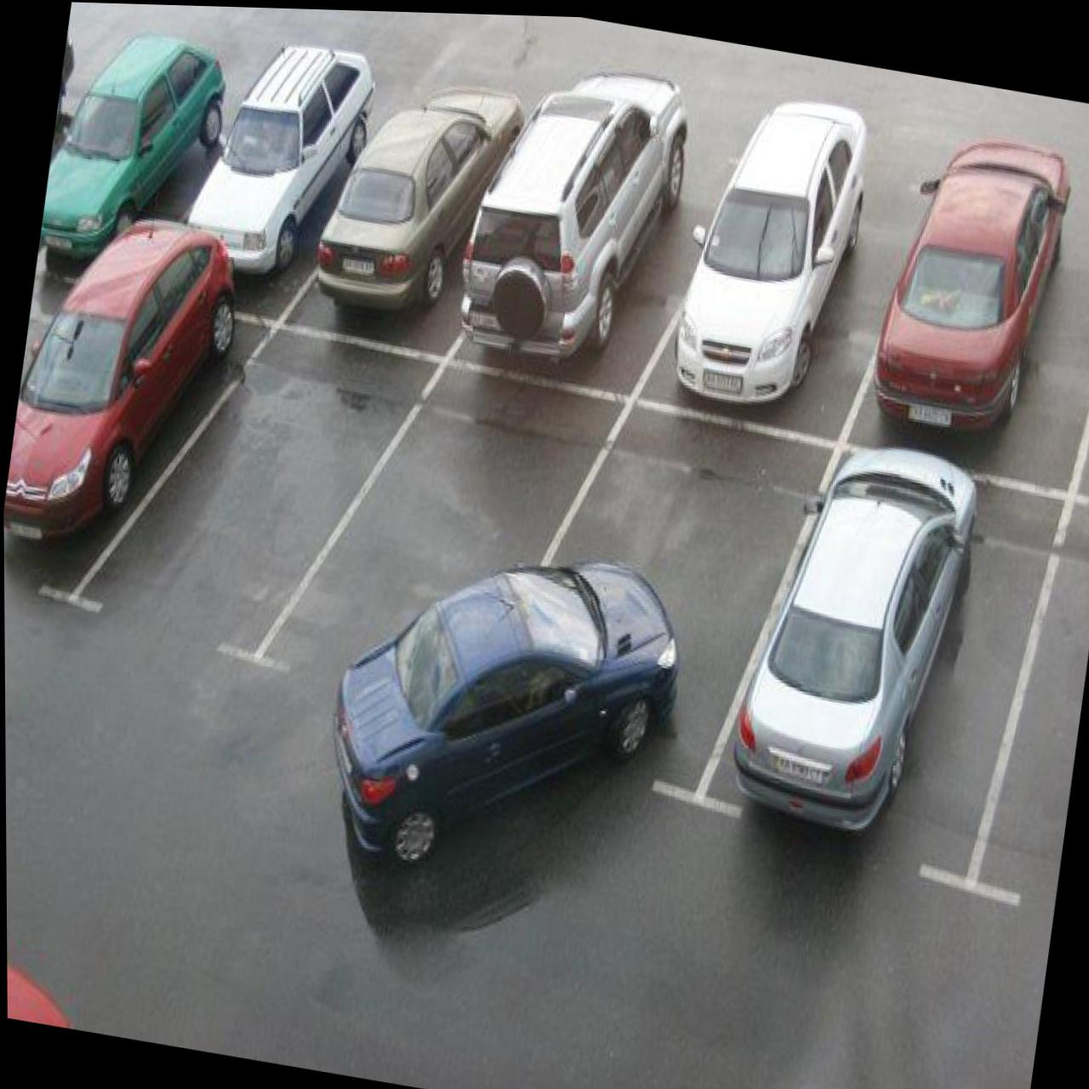cars: (728, 406, 1044, 913), (510, 390, 824, 848), (284, 337, 567, 722), (2, 242, 256, 630), (464, 85, 733, 404), (648, 119, 913, 437), (843, 178, 1089, 505), (300, 83, 531, 364), (35, 7, 244, 291), (168, 56, 364, 328)
empty: (87, 284, 410, 707)
